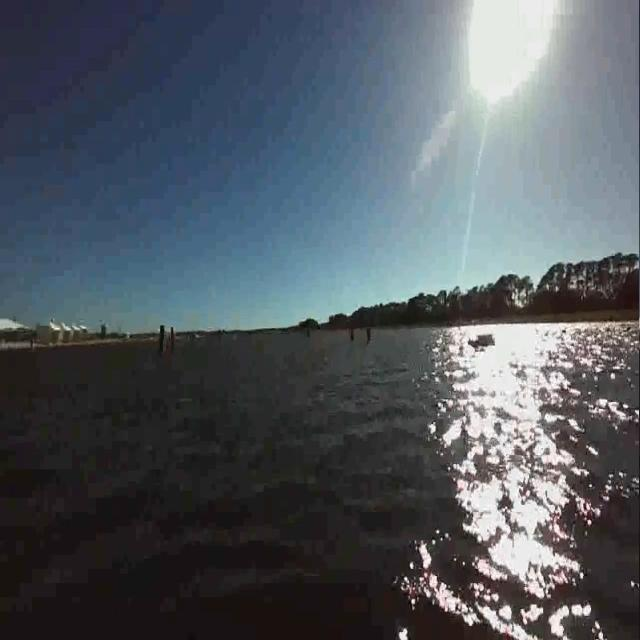green-column-buoy: (158, 325, 168, 353)
red-column-buoy: (168, 327, 177, 352)
